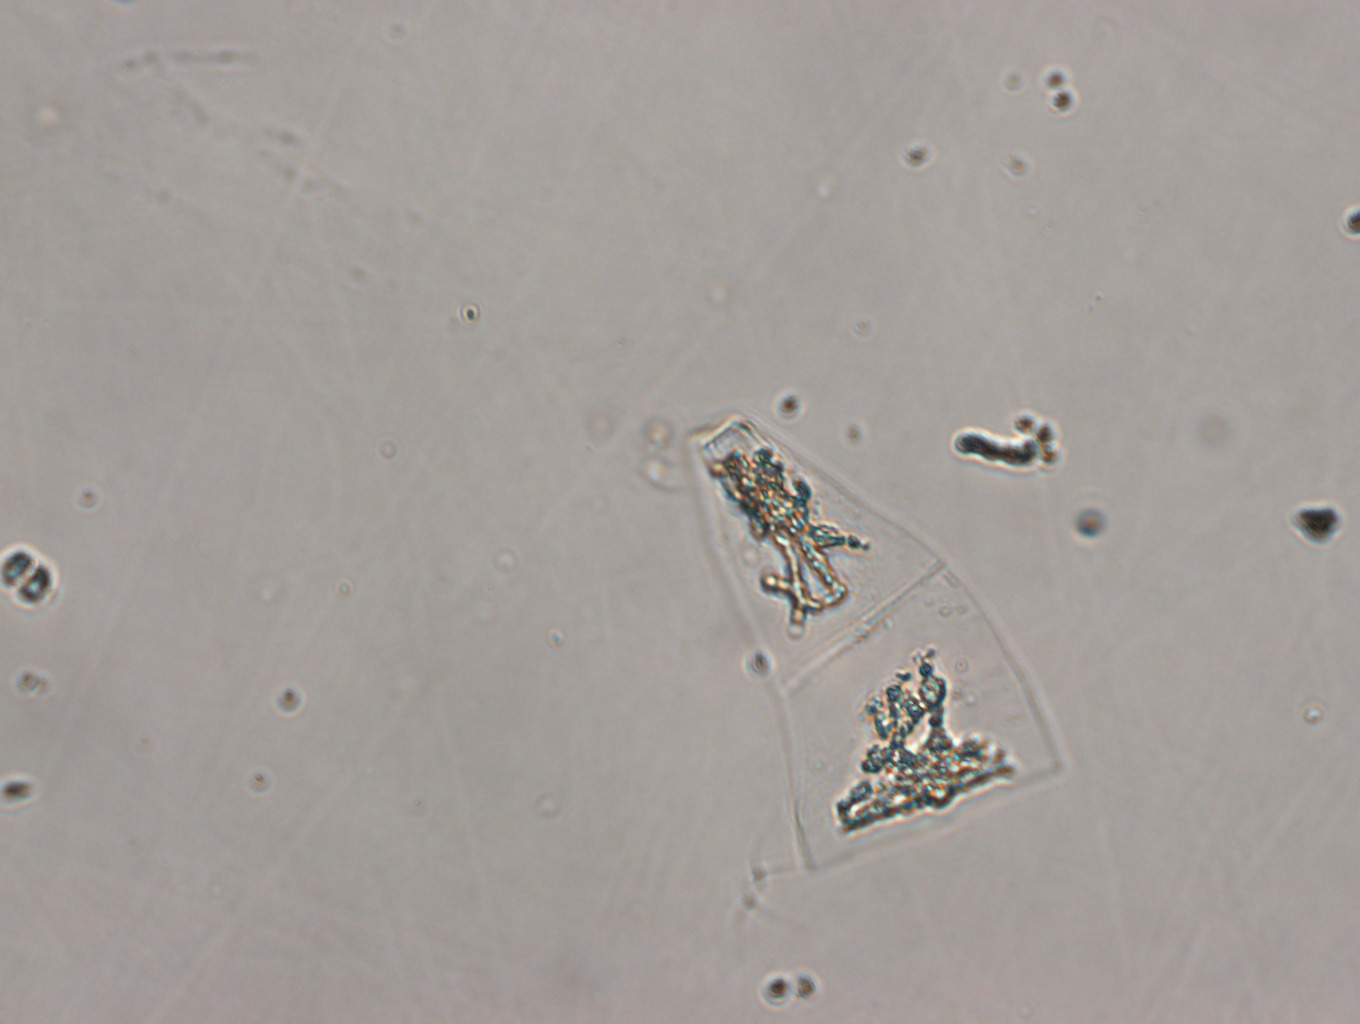helicotheca: (688, 411, 1065, 877)
